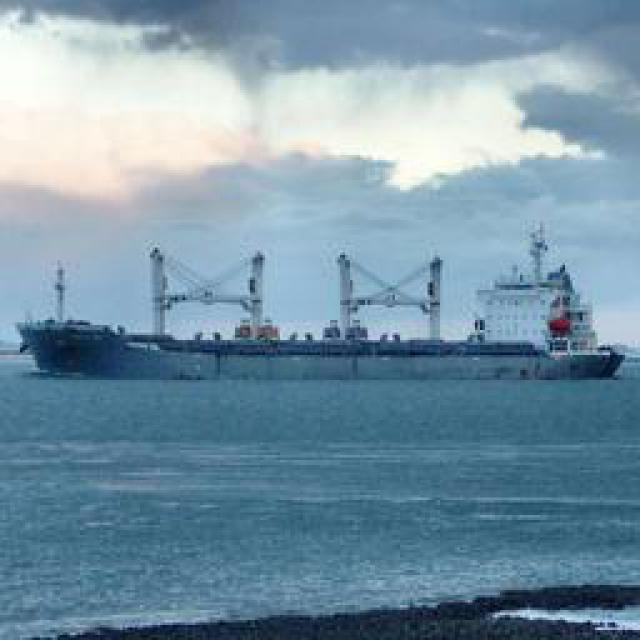Ship: (19, 235, 629, 388)
